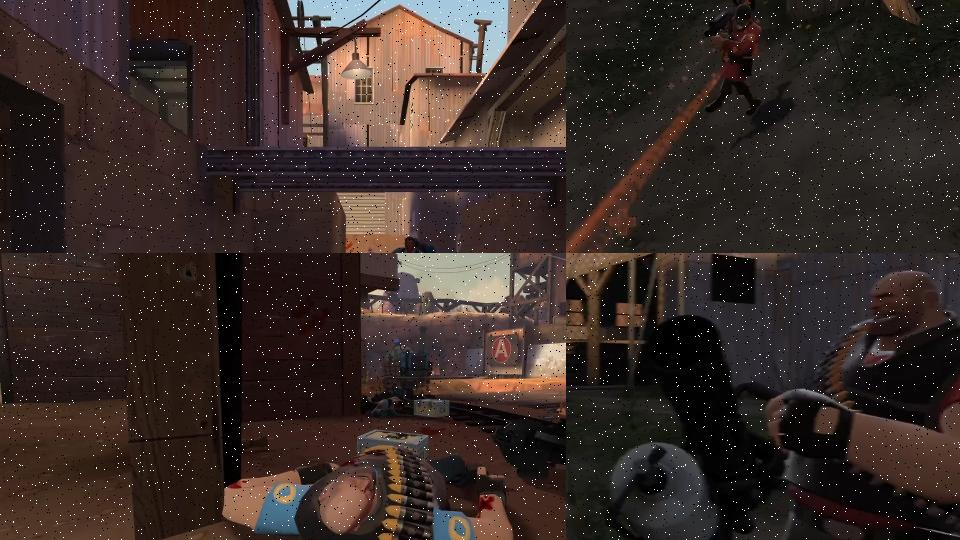Enemy: (607, 272, 960, 540), (220, 443, 517, 540), (700, 0, 765, 120), (363, 390, 405, 416)
